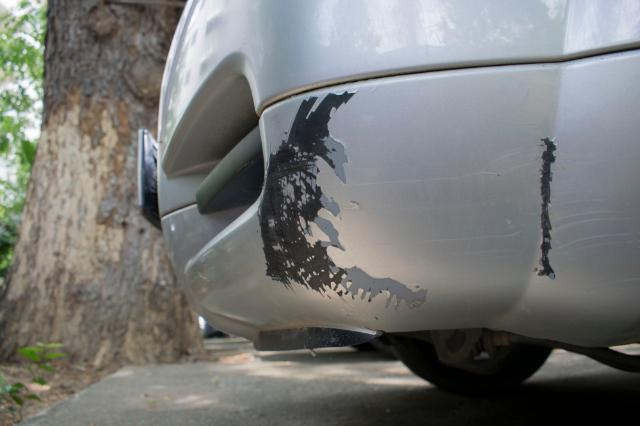scratch: (259, 91, 640, 311)
